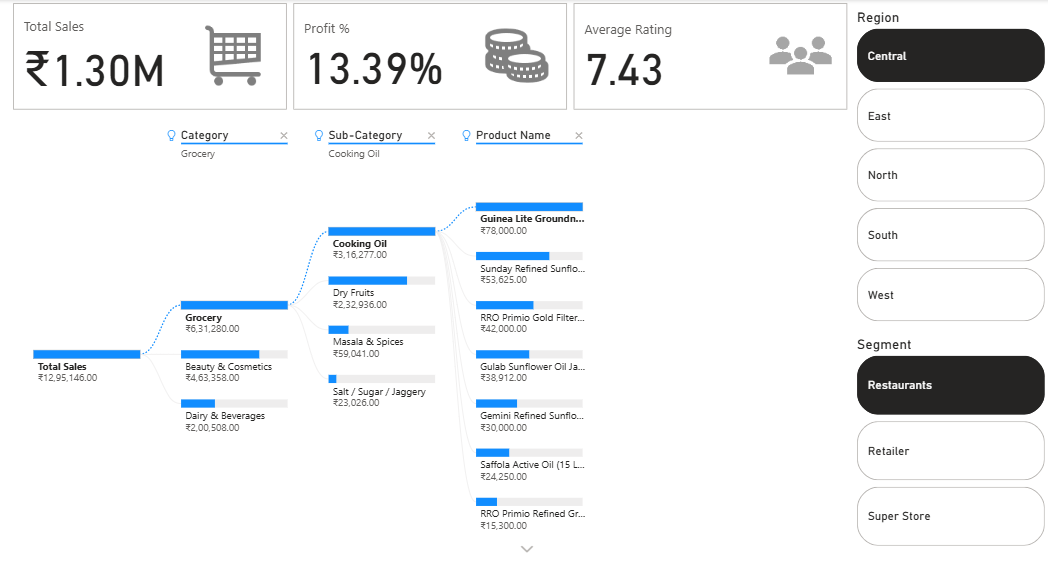

The page's visual inventory and layout, read from the dashboard file:
{"tool":"powerbi","page":{"name":"Sales by Product Hierarchy","canvas":[1280,720],"ordinal":1},"visuals":[{"type":"cardVisual","fields":{"Data":["Measures (2).Total Sales","Measures (2).Profit %","Measures (2).Average Rating"]},"box":[10.5,0,1029.2,140.4],"z":0},{"type":"advancedSlicerVisual","fields":{"Values":["NationalStore - SalesTable.Region"]},"box":[1041.5,12,239.1,387.9],"z":1},{"type":"advancedSlicerVisual","fields":{"Values":["NationalStore - SalesTable.Segment"]},"box":[1041.5,411.8,239.1,263],"z":2},{"type":"decompositionTreeVisual","fields":{"Analyze":["Measures (2).Total Sales"],"ExplainBy":["NationalStore - SalesTable.Category","NationalStore - SalesTable.Sub-Category","NationalStore - SalesTable.Product Name"]},"box":[10.5,140.4,1029.2,564.6],"z":3}]}

Visuals, with their boxes in screenshot pixels (x1, y1, x2, y2), scaled from the page's 1280x720 canvas onto the 1048x588 screenshot:
cardVisual - Measures (2).Total Sales x Measures (2).Profit %: <region>9, 0, 851, 115</region>
advancedSlicerVisual - NationalStore - SalesTable.Region: <region>853, 10, 1047, 327</region>
advancedSlicerVisual - NationalStore - SalesTable.Segment: <region>853, 336, 1047, 551</region>
decompositionTreeVisual - Measures (2).Total Sales x NationalStore - SalesTable.Category: <region>9, 115, 851, 576</region>
